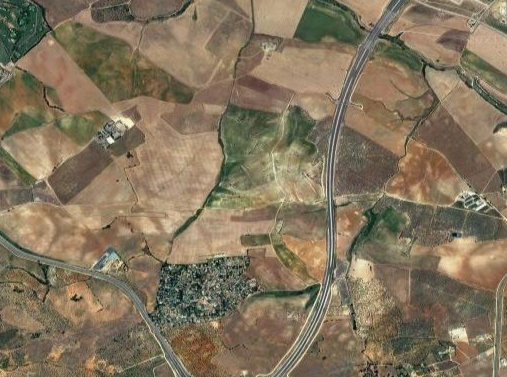motorway: (342, 1, 405, 91), (127, 292, 187, 377), (318, 90, 353, 217), (309, 217, 344, 319), (268, 318, 321, 377), (52, 259, 129, 292), (1, 232, 52, 269), (491, 273, 507, 374)
